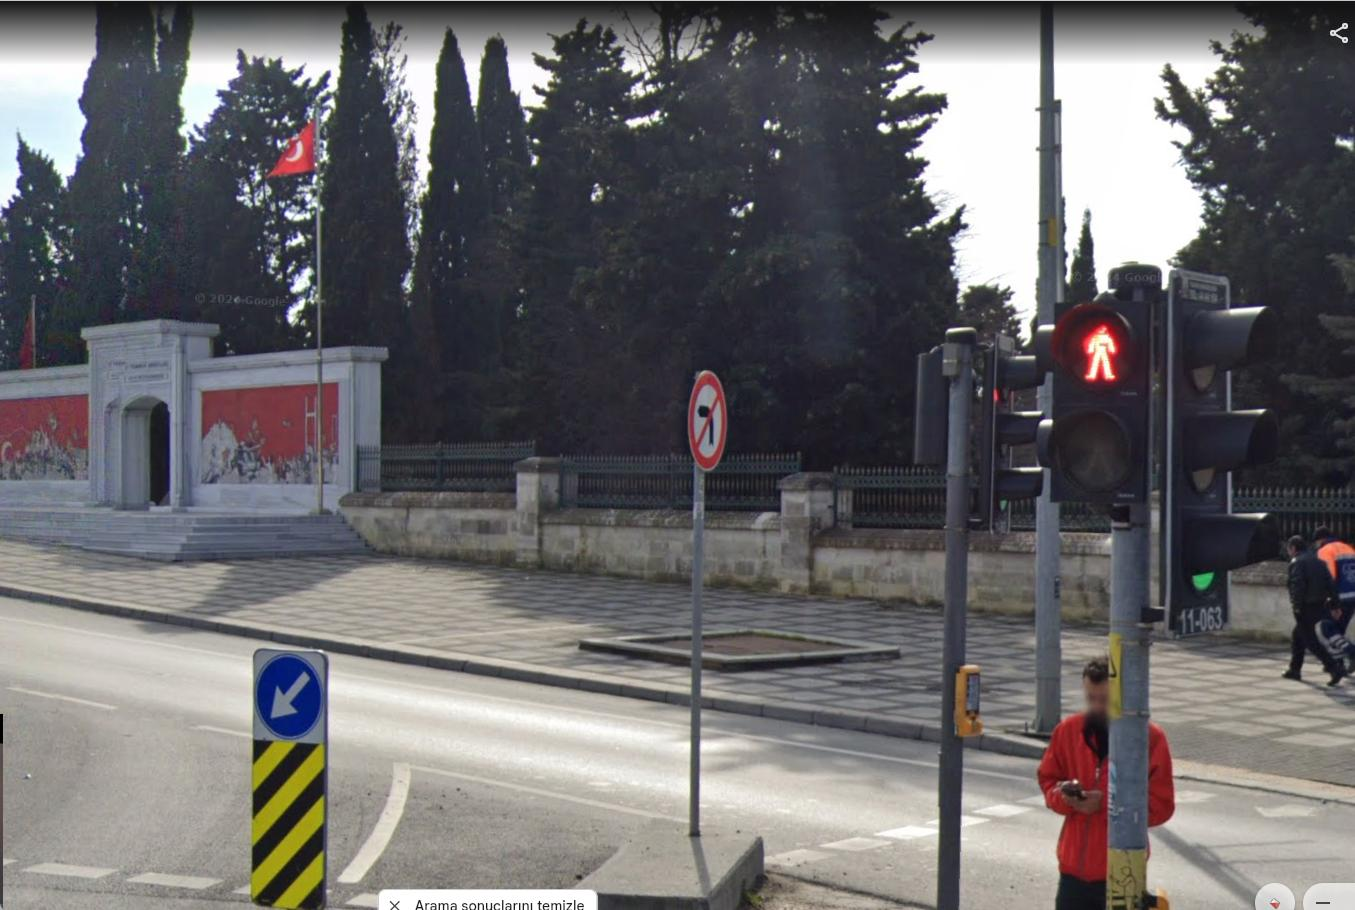leftturnsareforbidden: (682, 365, 727, 478)
